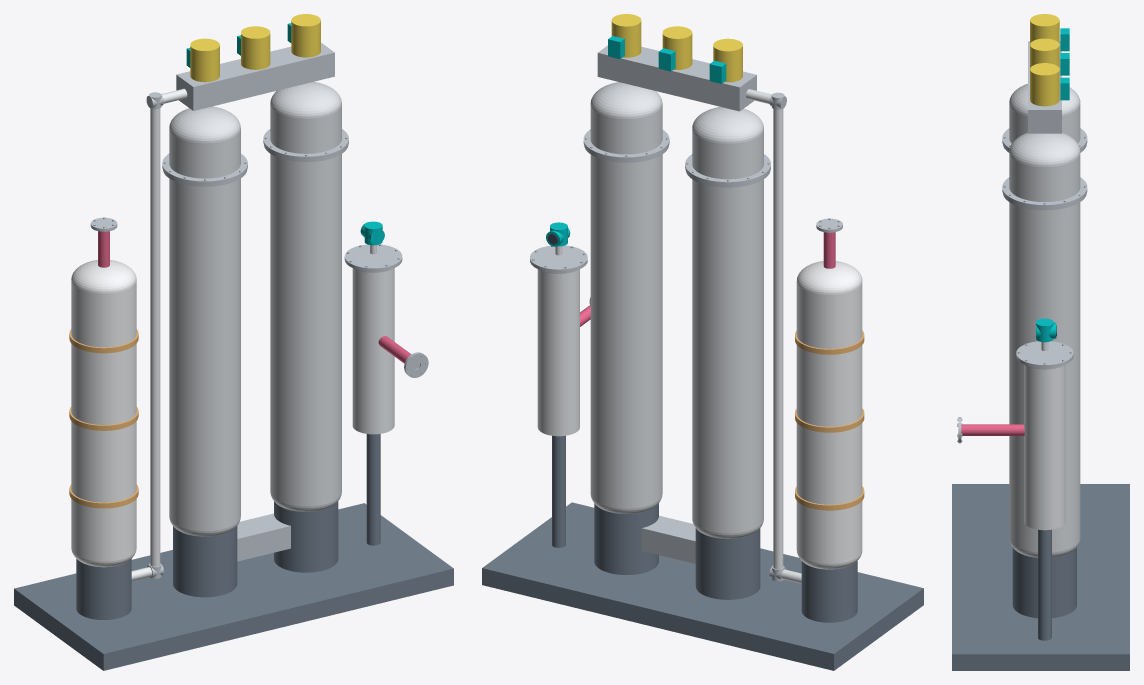
File: DR-500_Catalytic_DeOxo_TSA.glb
3 views of the same model, side by side, from view 1: azimuth 30°, elevation 25°; view 2: azimuth 150°, elevation 25°; view 3: azimuth 270°, elevation 25° (orthographic).
Visible parts, largest first — view 1: DR-500_019__T501A_TSA_Adsorber_A_Vessel_Shell__SS304_SATIN, DR-500_037__T501B_TSA_Adsorber_B_Vessel_Shell__SS304_SATIN, DR-500_001__DR500_Skid_Base_Frame__STRUCTURAL_SLATE_IS800, DR-500_005__R501_Insulated_Reactor_Shell__INSULATION_CLAD_AL, DR-500_071__FLT501_Sintered_Filter_Housing__SS316L_POLISHED, DR-500_053__DeOxo_To_TSA_Transfer_Pipe__SS316L_POLISHED, DR-500_060__TSA_Upper_4Way_Valve_Manifold__FLANGE_FORGED_SS, DR-500_017__T501A_TSA_Adsorber_A_Skirt__STRUCTURAL_SLATE_IS8, DR-500_062__Pneumatic_Switchover_Actuator__SAFETY_YELLOW_OSH, DR-500_035__T501B_TSA_Adsorber_B_Skirt__STRUCTURAL_SLATE_IS8, DR-500_002__R501_DeOxo_Skirt__STRUCTURAL_SLATE_IS800, DR-500_020__T501A_TSA_Adsorber_A_Top_Head__SS304_SATIN (+8 smaller); view 2: DR-500_037__T501B_TSA_Adsorber_B_Vessel_Shell__SS304_SATIN, DR-500_019__T501A_TSA_Adsorber_A_Vessel_Shell__SS304_SATIN, DR-500_001__DR500_Skid_Base_Frame__STRUCTURAL_SLATE_IS800, DR-500_005__R501_Insulated_Reactor_Shell__INSULATION_CLAD_AL, DR-500_071__FLT501_Sintered_Filter_Housing__SS316L_POLISHED, DR-500_053__DeOxo_To_TSA_Transfer_Pipe__SS316L_POLISHED, DR-500_060__TSA_Upper_4Way_Valve_Manifold__FLANGE_FORGED_SS, DR-500_017__T501A_TSA_Adsorber_A_Skirt__STRUCTURAL_SLATE_IS8, DR-500_035__T501B_TSA_Adsorber_B_Skirt__STRUCTURAL_SLATE_IS8, DR-500_062__Pneumatic_Switchover_Actuator__SAFETY_YELLOW_OSH, DR-500_002__R501_DeOxo_Skirt__STRUCTURAL_SLATE_IS800, DR-500_020__T501A_TSA_Adsorber_A_Top_Head__SS304_SATIN (+9 smaller); view 3: DR-500_001__DR500_Skid_Base_Frame__STRUCTURAL_SLATE_IS800, DR-500_037__T501B_TSA_Adsorber_B_Vessel_Shell__SS304_SATIN, DR-500_071__FLT501_Sintered_Filter_Housing__SS316L_POLISHED, DR-500_035__T501B_TSA_Adsorber_B_Skirt__STRUCTURAL_SLATE_IS8, DR-500_062__Pneumatic_Switchover_Actuator__SAFETY_YELLOW_OSH, DR-500_038__T501B_TSA_Adsorber_B_Top_Head__SS304_SATIN, DR-500_070__FLT501_Pedestal__STRUCTURAL_SLATE_IS800, DR-500_060__TSA_Upper_4Way_Valve_Manifold__FLANGE_FORGED_SS, DR-500_072__FLT501_Top_Bolted_Bonnet__FLANGE_FORGED_SS, DR-500_019__T501A_TSA_Adsorber_A_Vessel_Shell__SS304_SATIN, DR-500_020__T501A_TSA_Adsorber_A_Top_Head__SS304_SATIN, DR-500_039__T501B_TSA_Adsorber_B_Sieve_Retainer_Flange__FLAN (+4 smaller).
Boxes of the visible parts, <box> form: DR-500_019__T501A_TSA_Adsorber_A_Vessel_Shell__SS304_SATIN: <box>169,129,240,530</box>; DR-500_037__T501B_TSA_Adsorber_B_Vessel_Shell__SS304_SATIN: <box>270,105,341,506</box>; DR-500_001__DR500_Skid_Base_Frame__STRUCTURAL_SLATE_IS800: <box>14,503,453,670</box>; DR-500_005__R501_Insulated_Reactor_Shell__INSULATION_CLAD_AL: <box>71,281,136,561</box>; DR-500_071__FLT501_Sintered_Filter_Housing__SS316L_POLISHED: <box>352,268,394,434</box>; DR-500_053__DeOxo_To_TSA_Transfer_Pipe__SS316L_POLISHED: <box>131,88,187,581</box>; DR-500_060__TSA_Upper_4Way_Valve_Manifold__FLANGE_FORGED_SS: <box>176,42,334,110</box>; DR-500_017__T501A_TSA_Adsorber_A_Skirt__STRUCTURAL_SLATE_IS8: <box>173,526,237,597</box>; DR-500_062__Pneumatic_Switchover_Actuator__SAFETY_YELLOW_OSH: <box>190,14,320,82</box>; DR-500_035__T501B_TSA_Adsorber_B_Skirt__STRUCTURAL_SLATE_IS8: <box>274,501,338,572</box>; DR-500_002__R501_DeOxo_Skirt__STRUCTURAL_SLATE_IS800: <box>76,559,131,619</box>; DR-500_020__T501A_TSA_Adsorber_A_Top_Head__SS304_SATIN: <box>169,106,240,143</box>; DR-500_037__T501B_TSA_Adsorber_B_Vessel_Shell__SS304_SATIN: <box>590,105,662,508</box>; DR-500_019__T501A_TSA_Adsorber_A_Vessel_Shell__SS304_SATIN: <box>692,130,763,533</box>; DR-500_001__DR500_Skid_Base_Frame__STRUCTURAL_SLATE_IS800: <box>482,502,923,670</box>; DR-500_005__R501_Insulated_Reactor_Shell__INSULATION_CLAD_AL: <box>796,281,862,563</box>; DR-500_071__FLT501_Sintered_Filter_Housing__SS316L_POLISHED: <box>537,269,579,436</box>; DR-500_053__DeOxo_To_TSA_Transfer_Pipe__SS316L_POLISHED: <box>746,89,801,583</box>; DR-500_060__TSA_Upper_4Way_Valve_Manifold__FLANGE_FORGED_SS: <box>597,45,756,111</box>; DR-500_017__T501A_TSA_Adsorber_A_Skirt__STRUCTURAL_SLATE_IS8: <box>695,528,760,599</box>; DR-500_035__T501B_TSA_Adsorber_B_Skirt__STRUCTURAL_SLATE_IS8: <box>594,503,658,574</box>; DR-500_062__Pneumatic_Switchover_Actuator__SAFETY_YELLOW_OSH: <box>611,14,742,82</box>; DR-500_002__R501_DeOxo_Skirt__STRUCTURAL_SLATE_IS800: <box>801,561,857,622</box>; DR-500_020__T501A_TSA_Adsorber_A_Top_Head__SS304_SATIN: <box>692,107,763,143</box>; DR-500_001__DR500_Skid_Base_Frame__STRUCTURAL_SLATE_IS800: <box>952,484,1129,670</box>; DR-500_037__T501B_TSA_Adsorber_B_Vessel_Shell__SS304_SATIN: <box>1009,154,1080,552</box>; DR-500_071__FLT501_Sintered_Filter_Housing__SS316L_POLISHED: <box>1024,365,1065,530</box>; DR-500_035__T501B_TSA_Adsorber_B_Skirt__STRUCTURAL_SLATE_IS8: <box>1012,547,1076,618</box>; DR-500_062__Pneumatic_Switchover_Actuator__SAFETY_YELLOW_OSH: <box>1030,14,1059,106</box>; DR-500_038__T501B_TSA_Adsorber_B_Top_Head__SS304_SATIN: <box>1009,132,1080,166</box>; DR-500_070__FLT501_Pedestal__STRUCTURAL_SLATE_IS800: <box>1038,529,1051,640</box>; DR-500_060__TSA_Upper_4Way_Valve_Manifold__FLANGE_FORGED_SS: <box>1028,41,1061,133</box>; DR-500_072__FLT501_Top_Bolted_Bonnet__FLANGE_FORGED_SS: <box>1016,341,1073,368</box>; DR-500_019__T501A_TSA_Adsorber_A_Vessel_Shell__SS304_SATIN: <box>1009,105,1080,143</box>; DR-500_020__T501A_TSA_Adsorber_A_Top_Head__SS304_SATIN: <box>1009,83,1080,115</box>; DR-500_039__T501B_TSA_Adsorber_B_Sieve_Retainer_Flange__FLAN: <box>1002,177,1087,208</box>.
Bounding box in the file's own units: 2.6 × 3.94 × 1.15.
